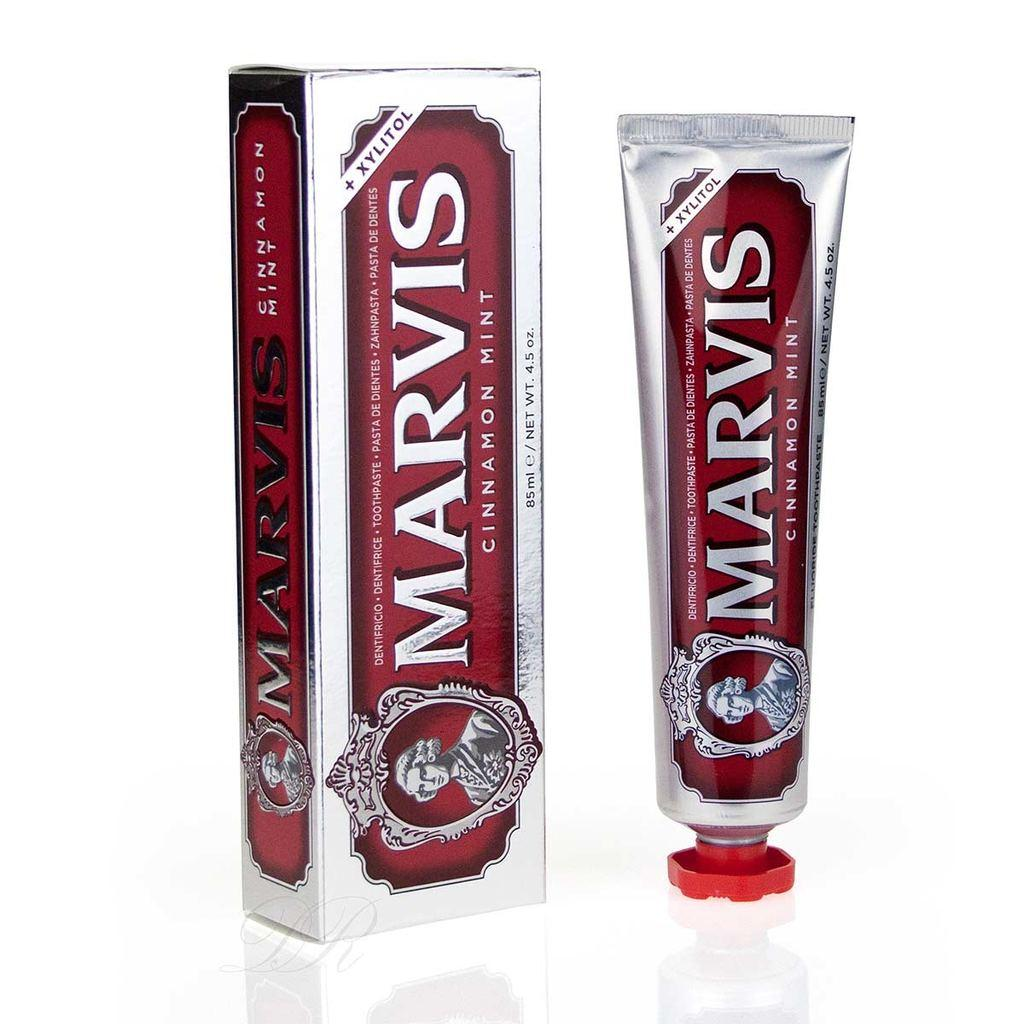toothpaste: (227, 39, 559, 934), (615, 104, 859, 954)
